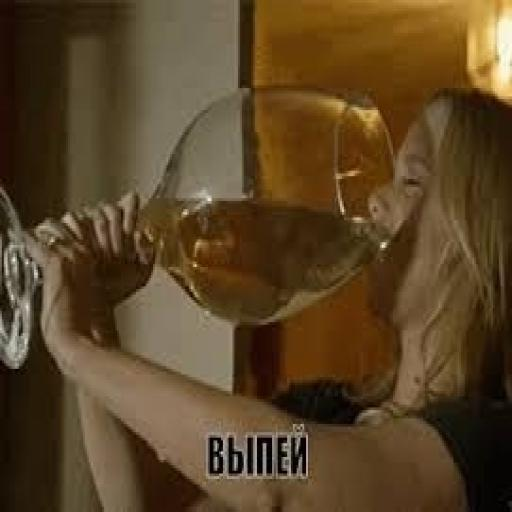drinking: (60, 63, 512, 438)
